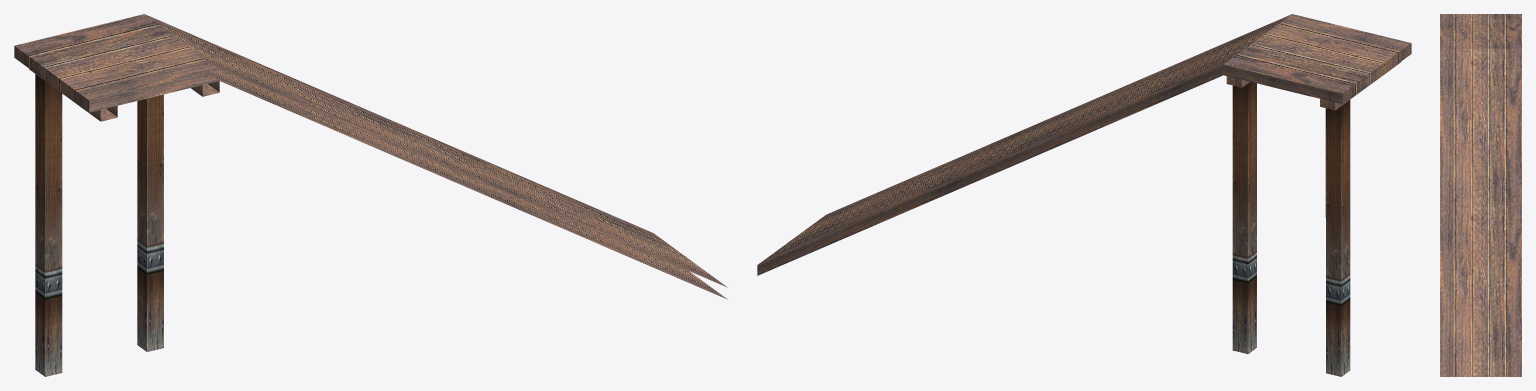
File: tn4_brige02.glb
3 renders of one model, left to right at view 1: azimuth 30°, elevation 25°; view 2: azimuth 150°, elevation 25°; view 3: azimuth 270°, elevation 25°, orthographic. The views are drawn at different scales.
Parts seen in each view (by area): view 1: tn4_brige02; view 2: tn4_brige02; view 3: tn4_brige02.
Part boxes in pixels (box(x1,y1,x2,y2)): tn4_brige02: box(14, 14, 727, 376); tn4_brige02: box(757, 14, 1411, 376); tn4_brige02: box(1440, 14, 1521, 376).
Bounding box in the file's own units: 11.3 × 6 × 2.3.
Materials: 2 (2 with a texture image).
